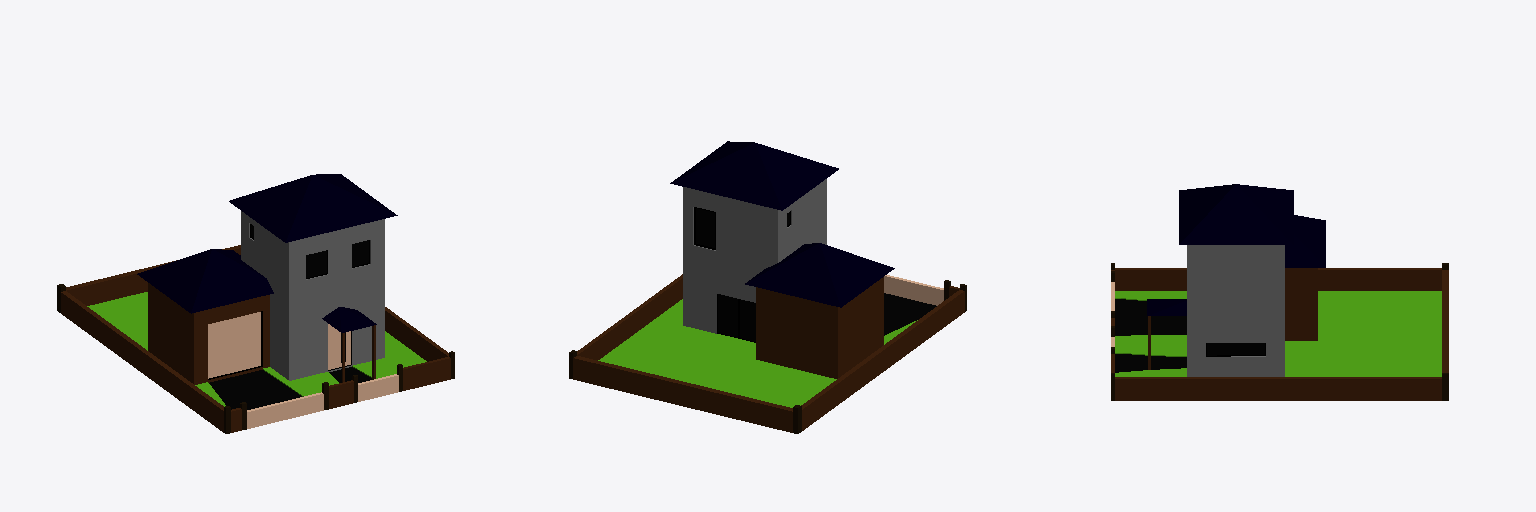
The model's file is pavillonWithoutbalcony.obj.
3 renders of one model, left to right at view 1: azimuth 30°, elevation 25°; view 2: azimuth 150°, elevation 25°; view 3: azimuth 270°, elevation 25°, orthographic.
Parts seen in each view (by area): view 1: main, roof, bareeer, garage, grass, garagedoor, path, portail, Poto, window, door; view 2: bareeer, roof, main, grass, garage, window, path, portail, Poto; view 3: grass, bareeer, main, roof, path, garage, window, Poto.
Part boxes in pixels (left/top/right/bottom): main: left=241, top=211, right=384, bottom=380; roof: left=137, top=174, right=397, bottom=332; bareeer: left=61, top=245, right=450, bottom=432; garage: left=148, top=283, right=269, bottom=384; grass: left=87, top=292, right=426, bottom=406; garagedoor: left=208, top=312, right=260, bottom=378; path: left=209, top=367, right=371, bottom=409; portail: left=247, top=374, right=398, bottom=428; Poto: left=57, top=284, right=454, bottom=433; window: left=251, top=224, right=368, bottom=362; door: left=328, top=324, right=350, bottom=369; bareeer: left=573, top=274, right=964, bottom=432; roof: left=670, top=141, right=894, bottom=307; main: left=683, top=179, right=826, bottom=333; grass: left=598, top=299, right=917, bottom=407; garage: left=756, top=277, right=883, bottom=378; window: left=696, top=208, right=789, bottom=341; path: left=884, top=293, right=936, bottom=335; portail: left=884, top=275, right=943, bottom=305; Poto: left=569, top=280, right=966, bottom=433; grass: left=1115, top=291, right=1441, bottom=376; bareeer: left=1111, top=268, right=1448, bottom=400; main: left=1187, top=245, right=1284, bottom=376; roof: left=1147, top=184, right=1325, bottom=315; path: left=1115, top=299, right=1186, bottom=372; garage: left=1285, top=268, right=1317, bottom=340; window: left=1207, top=343, right=1264, bottom=355; Poto: left=1111, top=263, right=1448, bottom=400.
Size of the model in its own units: 150 by 112 by 192.